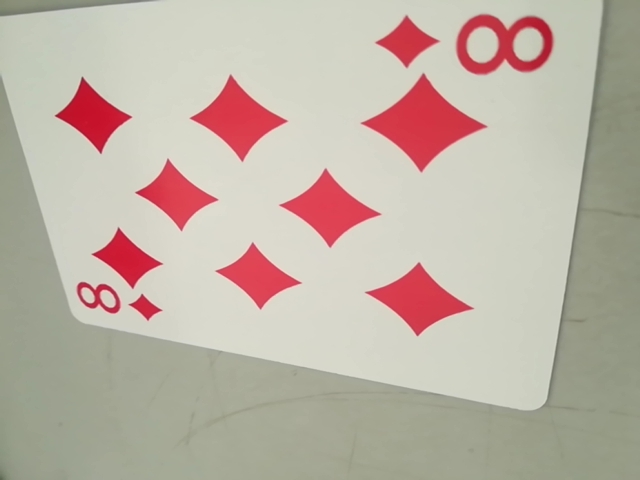fk 8: (378, 4, 557, 83), (71, 276, 159, 327)
